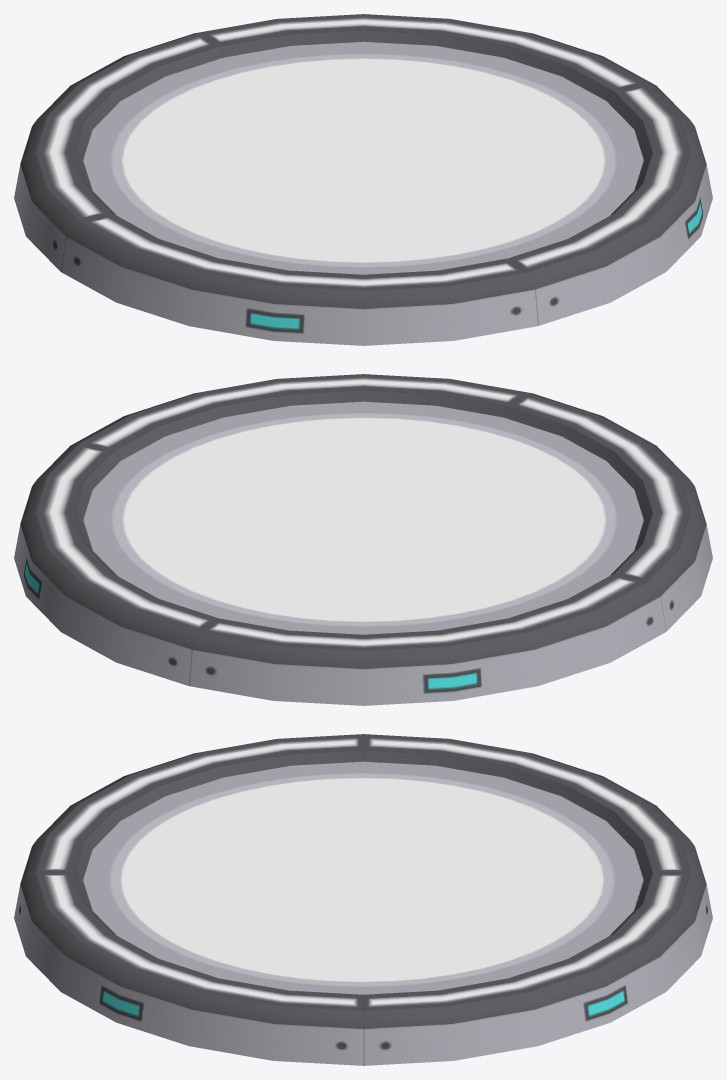
Rendered from Podium_09.FBX.
3 views of the same model, one above another, from view 1: azimuth 30°, elevation 25°; view 2: azimuth 150°, elevation 25°; view 3: azimuth 270°, elevation 25° (orthographic).
Visible parts, largest first — view 1: Podium_09; view 2: Podium_09; view 3: Podium_09.
Part boxes in pixels (x1,y1,x2,y2): Podium_09: [14, 14, 712, 345]; Podium_09: [14, 374, 712, 705]; Podium_09: [14, 734, 712, 1065].
Bounding box in the file's own units: 4.59 × 0.3306 × 4.59.
Materials: 1 (1 with a texture image).
